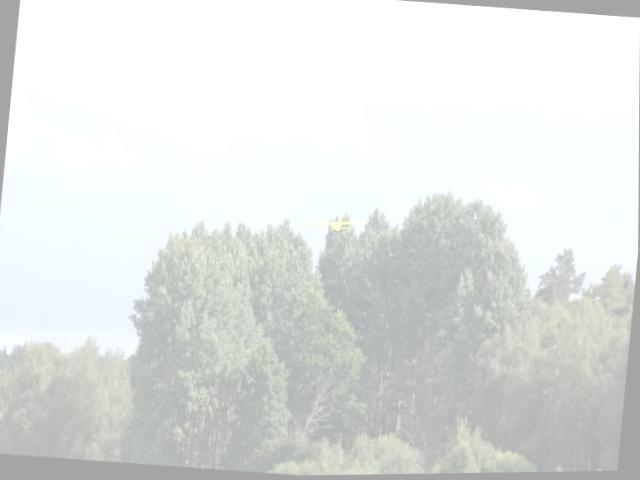plane: (304, 212, 366, 235)
